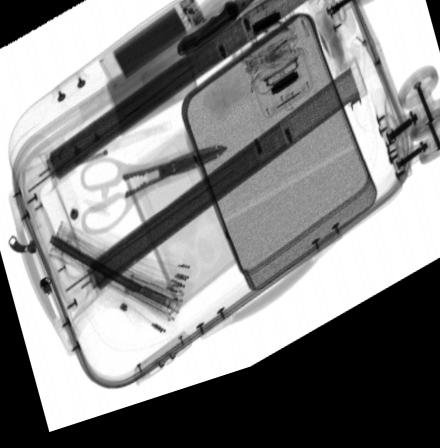Knife: (177, 0, 269, 67)
Powerbank: (97, 4, 209, 102)
Scissors: (81, 153, 229, 242)
